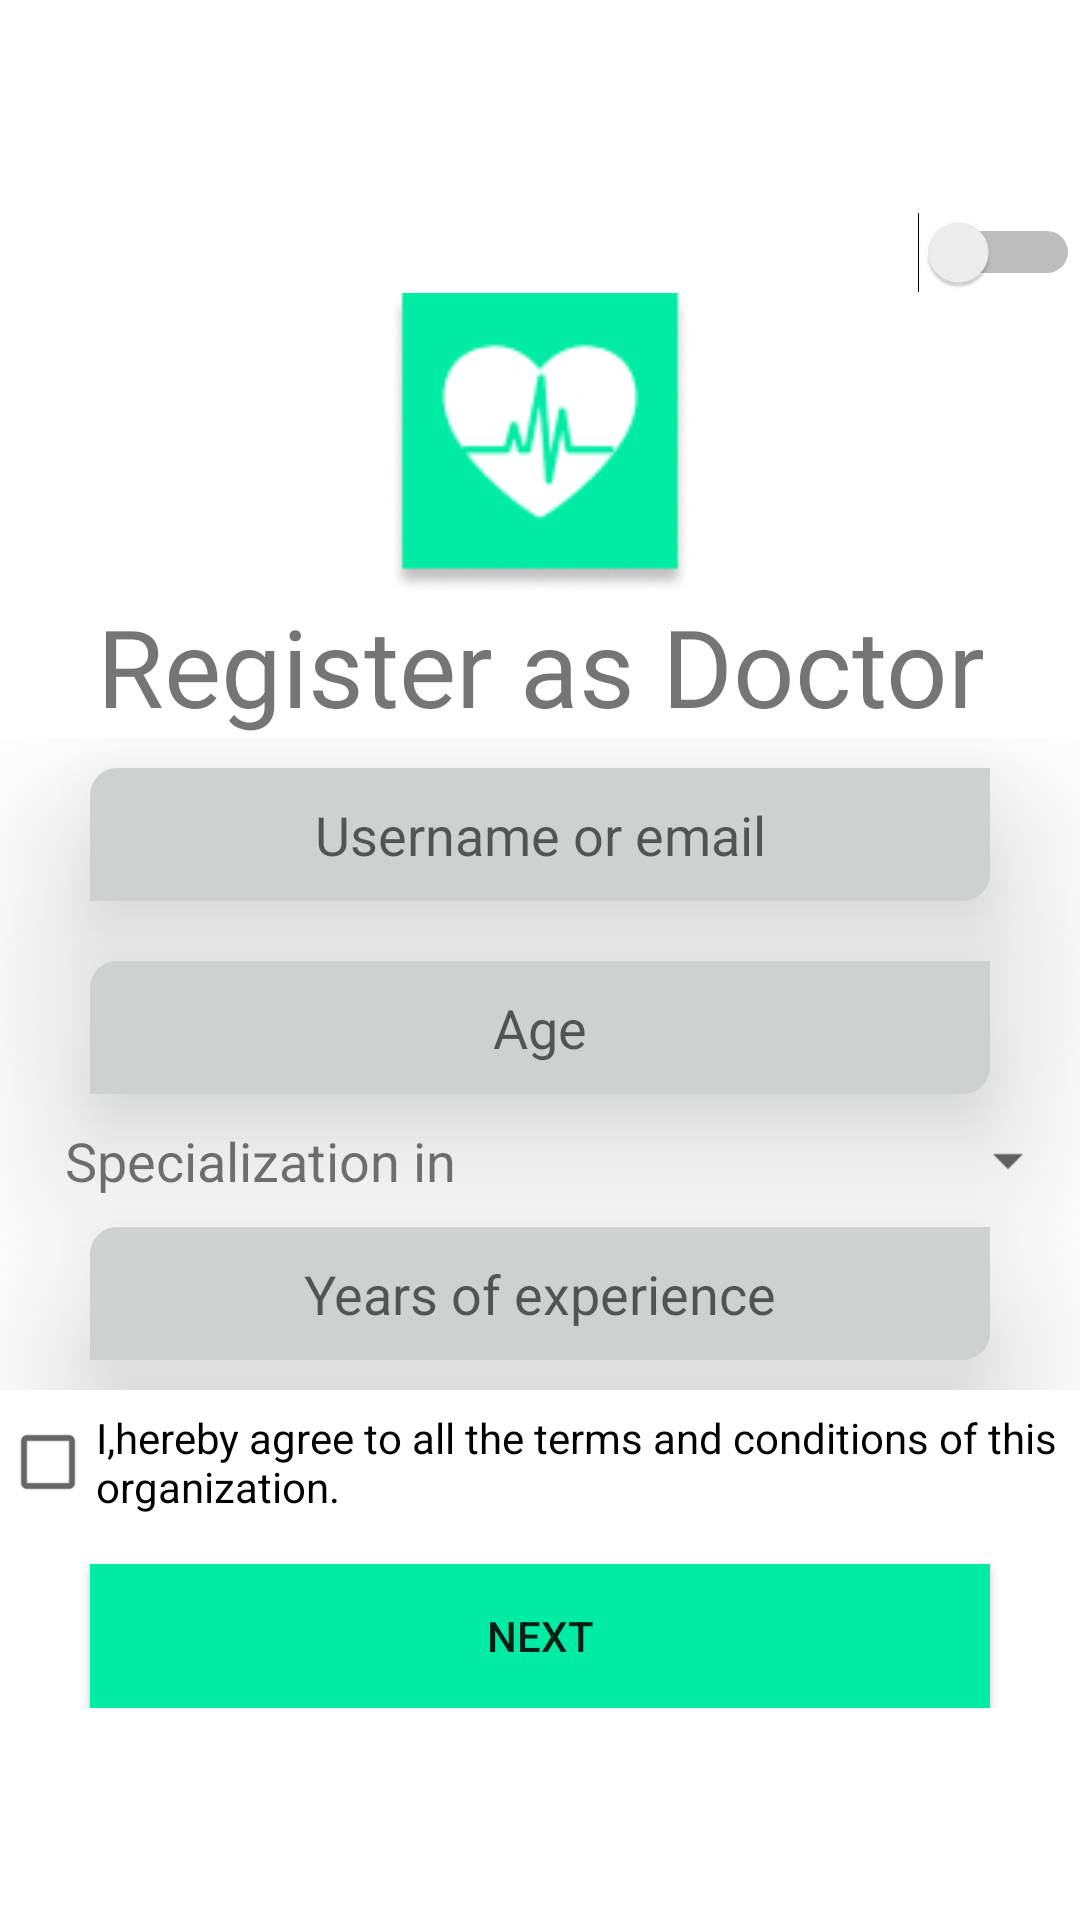

Named icons in this screenshot (1080*1920) and their bounding boxes, (x1, y1, x2, y2):
mainicon: (400, 293, 680, 583)
